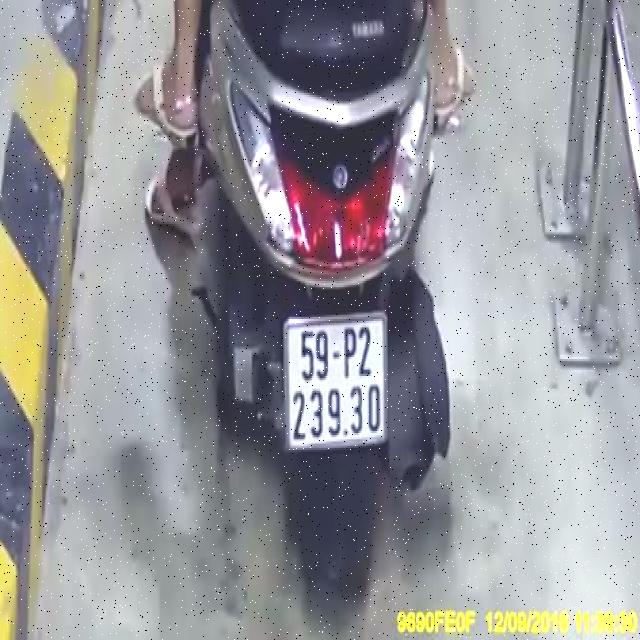0: (368, 382, 380, 435)
2: (293, 387, 308, 443), (359, 323, 373, 382)
3: (308, 388, 325, 440)
5: (300, 332, 316, 380)
9: (327, 387, 344, 438), (349, 383, 364, 437), (315, 331, 330, 380)
P: (341, 326, 358, 376)
